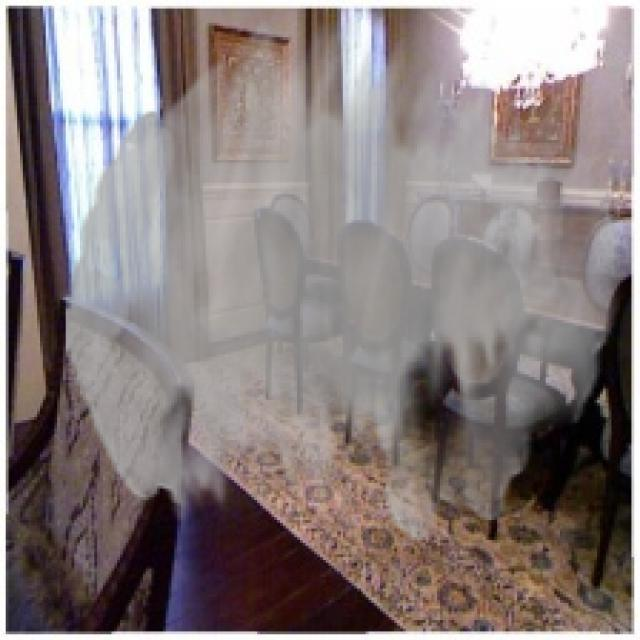Smoke: (65, 14, 620, 540)
